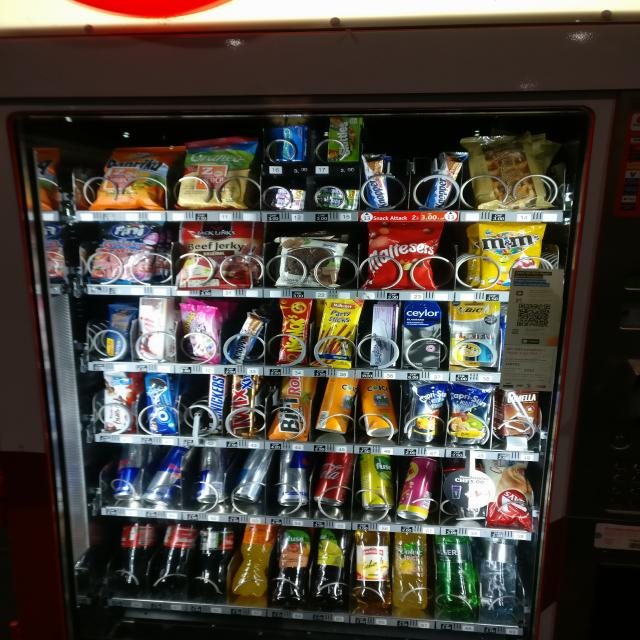7days_croissantschoko_packung_80_1_0000000000003: (482, 459, 536, 526)
airwaves_menthoneucalyptus_riegel_14_1_50173167: (274, 122, 308, 163)
bifi_roll__50__4251097402635: (271, 373, 311, 442)
bueno___43__4008400320328: (100, 370, 136, 432)
c-swiss_dosenabisicetea__33__9120025930135: (360, 375, 400, 436), (318, 375, 355, 435)
caprisun_multivitamin__20__4000177605004: (446, 382, 492, 445), (406, 379, 446, 444)
coke__dose_33__54491472: (315, 449, 354, 507)
coke__flasche_50__54491472: (114, 515, 156, 586), (153, 519, 196, 586)
coke_zero_flasche_50__5449000131836: (196, 519, 237, 590)
comella_schokodrink__33__7613100037253: (496, 383, 543, 443)
fanta___50__40822938: (238, 522, 274, 600)
fini_galaxymix_packung_100_1_8410525150364: (89, 220, 161, 284)
fini_jellykisses_packung_80_1_8410525116704: (177, 301, 220, 362)
fuse_lemon__50__5449000235947: (311, 529, 355, 608)
fuse_lemon_dose_33__5449000235947: (357, 454, 397, 510)
fuse_peach__50__5449000236623: (269, 527, 314, 608)
jacklinks_beefjerkyorginal__25__4047751730219: (176, 221, 257, 292)
jlbrichard_gauffre__90__5410495002000: (464, 135, 552, 209)
kagi___50__7610046000259: (134, 296, 168, 360)
knoppers_riegel____4035800488808: (422, 149, 466, 208), (223, 311, 265, 366), (359, 152, 395, 208)
lorenz_nicnacs__40__4018077798818: (276, 297, 310, 367)
malburner_partysticks__40__7610200279682: (315, 297, 361, 367)
maltesers___100__5000159023061: (365, 220, 442, 290)
mnms_gelb__45__40111445: (480, 220, 547, 290)
oreo___66__84100733: (143, 372, 177, 432)
powerbar_proteinplusschoko__55__4029679520028: (104, 302, 134, 361)
ramseier_schorle__50__7610057012456: (349, 526, 394, 608)
redbull___33__90162909: (146, 443, 190, 508), (232, 445, 274, 506), (273, 449, 313, 509), (193, 444, 231, 504), (113, 443, 148, 503)
skittles_sour_riegel_51_1_0000000000004: (325, 116, 360, 161)
snickers___50__5000159461122: (205, 371, 231, 438)
stimorol_spearmint_riegel_14_1_0000000000005: (317, 185, 359, 209)
stimorol_wildcherry_riegel_14_1_57060330: (268, 187, 305, 208)
tiki_himbeer_brause__50__00000000009342: (397, 454, 437, 522)
twix___50__5000159459228: (232, 372, 256, 436)
valser_classic__50__76404160: (431, 533, 480, 613)
valser_still__50__7610335002575: (475, 536, 518, 615)
volvic_pinapple__50__305764335648: (390, 532, 434, 614)
zweifel_graneochilli__100__7610095184009: (176, 139, 253, 209)
zweifel_paprika__90__7610095013002: (94, 146, 170, 208)
